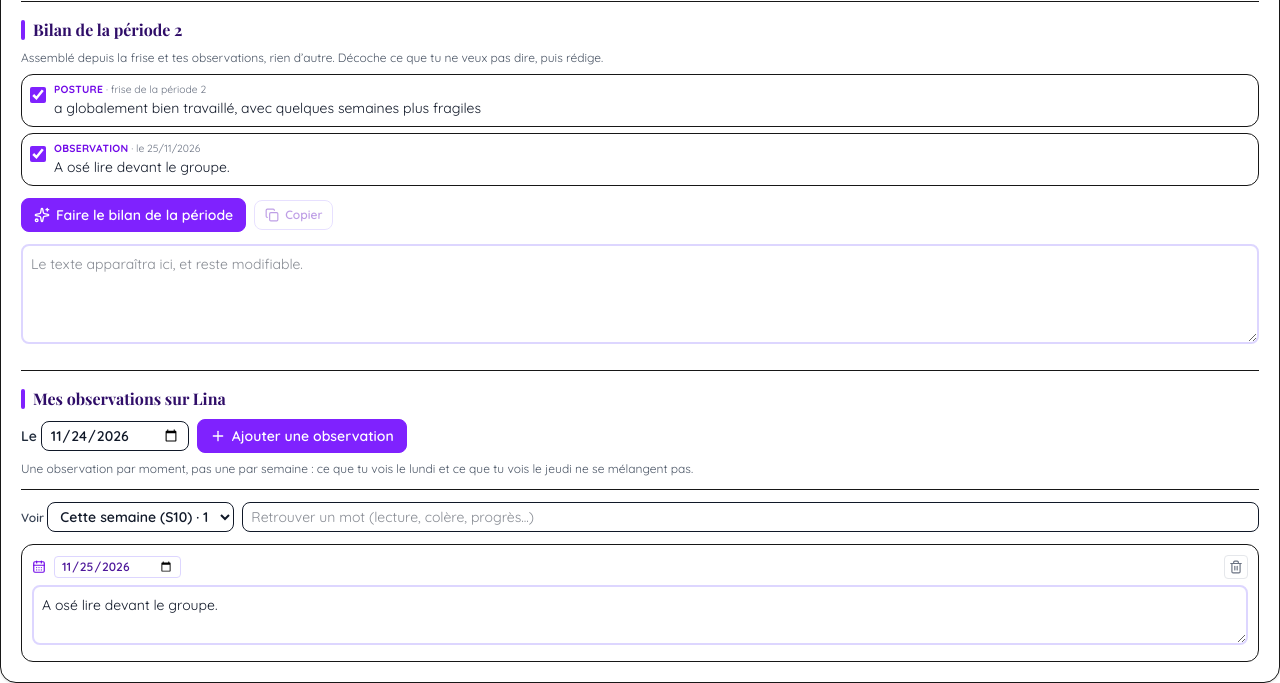
Test case: SuiviEleves › retire une observation
(page scrolled)
Click the button named "retirer l’observation du 25/11/2026" at (1236, 567), box [1224,555,1248,579]
(page scrolled)
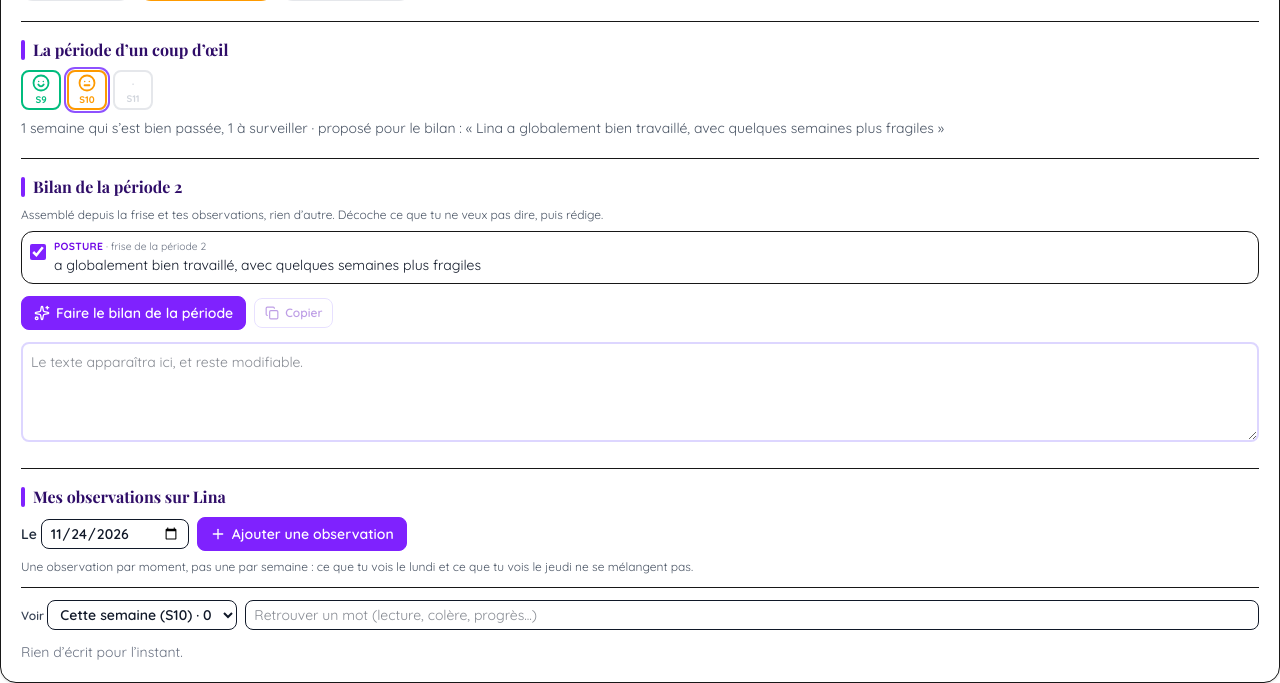
Check: the text "Rien d’écrit pour l’instant." is shown, box [21,643,183,661]
